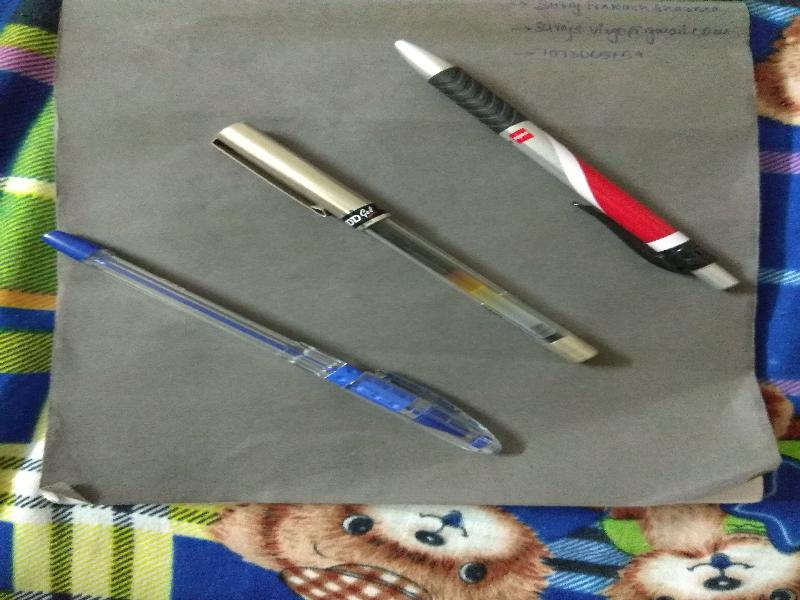pen: (38, 2, 744, 483)
